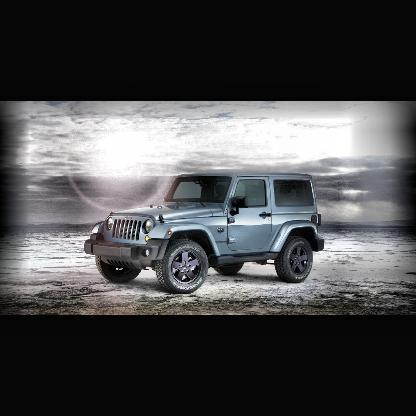Jeep Wrangler SUV 2012: (85, 172, 328, 295)
